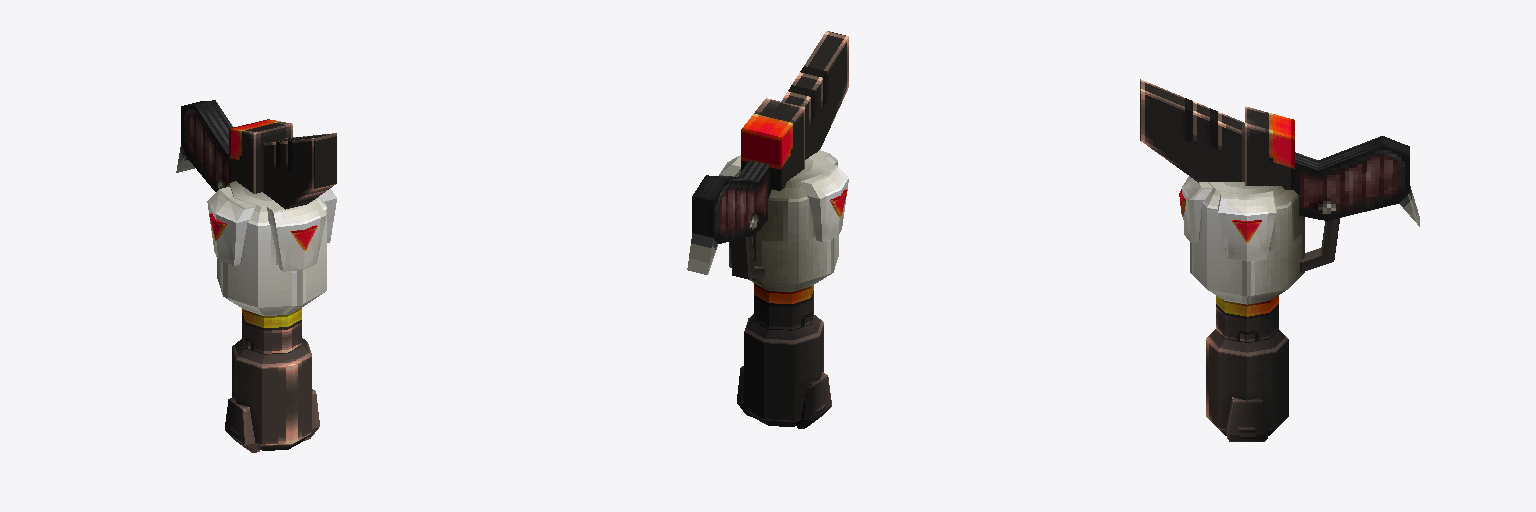
3 views of the same model, side by side, from view 1: azimuth 30°, elevation 25°; view 2: azimuth 150°, elevation 25°; view 3: azimuth 270°, elevation 25° (orthographic).
Parts seen in each view (by area): view 1: Axl-SpiralMagnum; view 2: Axl-SpiralMagnum; view 3: Axl-SpiralMagnum.
Boxes of the visible parts, <box> form: Axl-SpiralMagnum: <box>176,100,336,452</box>; Axl-SpiralMagnum: <box>687,31,848,428</box>; Axl-SpiralMagnum: <box>1140,79,1419,441</box>.
Bounding box in the file's own units: 1.99 × 5.51 × 4.07.
1 materials, 1 textured.